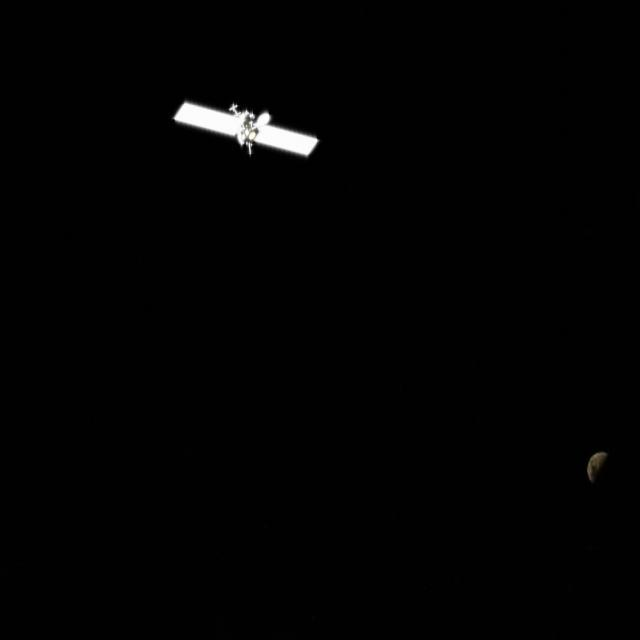satellite: (171, 92, 322, 159)
